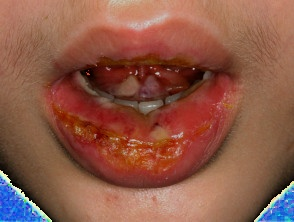SJS-TEN: (8, 0, 268, 222)
